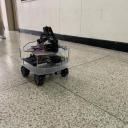cart: (18, 42, 70, 86)
